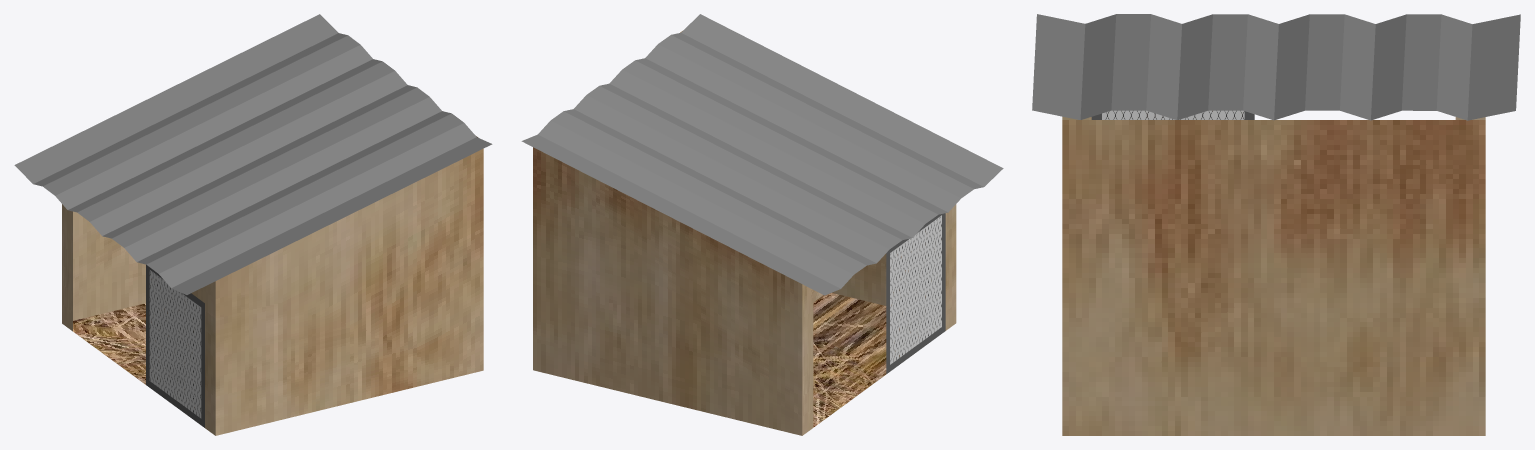
Rendered from chickenCoop.glb.
3 views of the same model, side by side, from view 1: azimuth 30°, elevation 25°; view 2: azimuth 150°, elevation 25°; view 3: azimuth 270°, elevation 25° (orthographic). The views are drawn at different scales.
Visible parts, largest first — view 1: Cube.002, Plane; view 2: Cube.002, Plane; view 3: Cube.002, Plane.
Boxes of the visible parts, x1,y1,x2,y2 form: Cube.002: [62, 135, 483, 435]; Plane: [14, 14, 492, 294]; Cube.002: [533, 31, 956, 435]; Plane: [521, 14, 1003, 295]; Cube.002: [1062, 110, 1485, 435]; Plane: [1032, 14, 1520, 120].
Size of the model in its own units: 2.9 by 2.12 by 2.89.
Materials: 5 (3 with a texture image).
